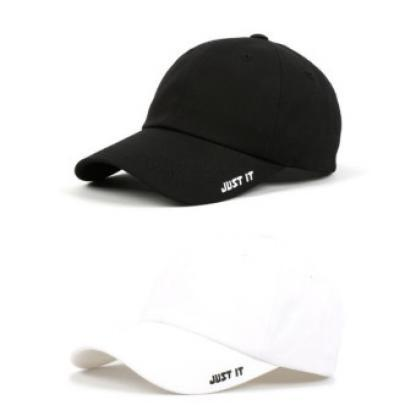cap: (58, 24, 348, 214)
